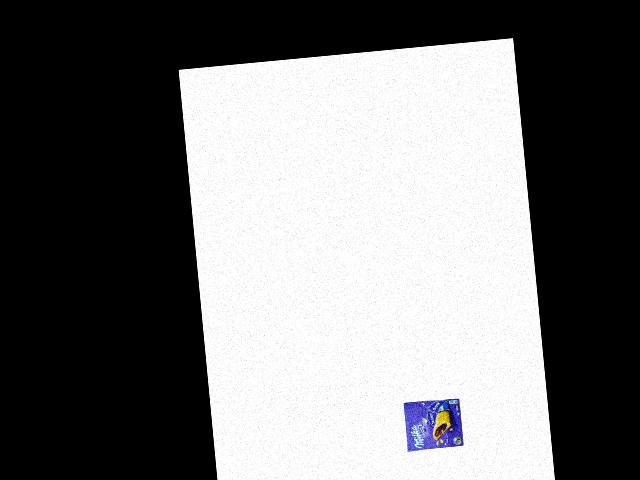chocolate: (399, 395, 467, 454)
